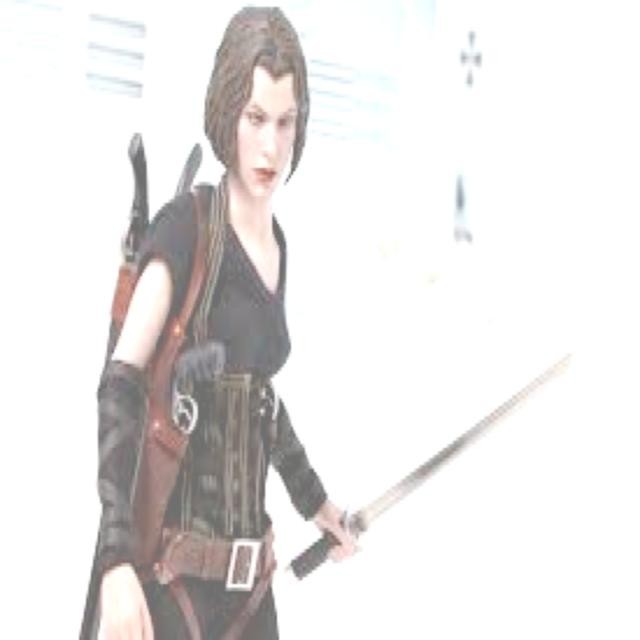long sword: (282, 343, 578, 589)
